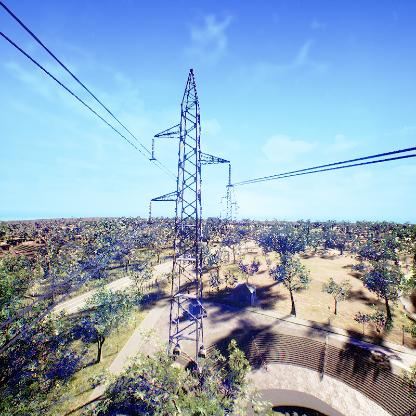tower: (147, 64, 233, 355)
